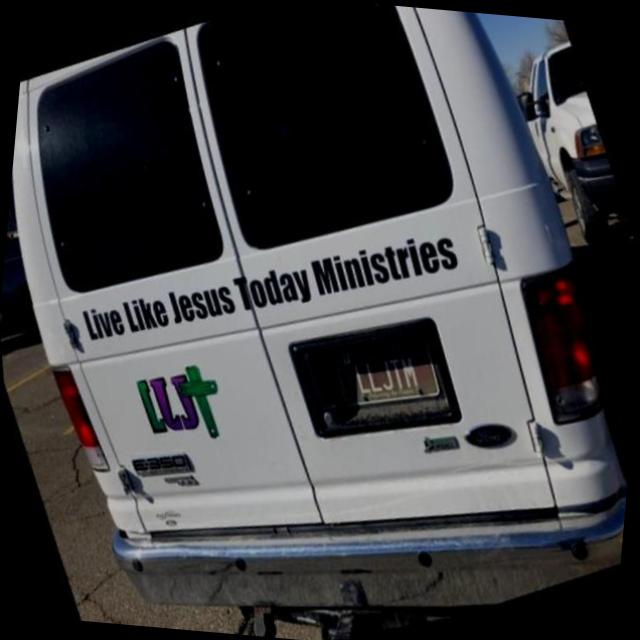LicensePlate: (330, 329, 439, 405)
